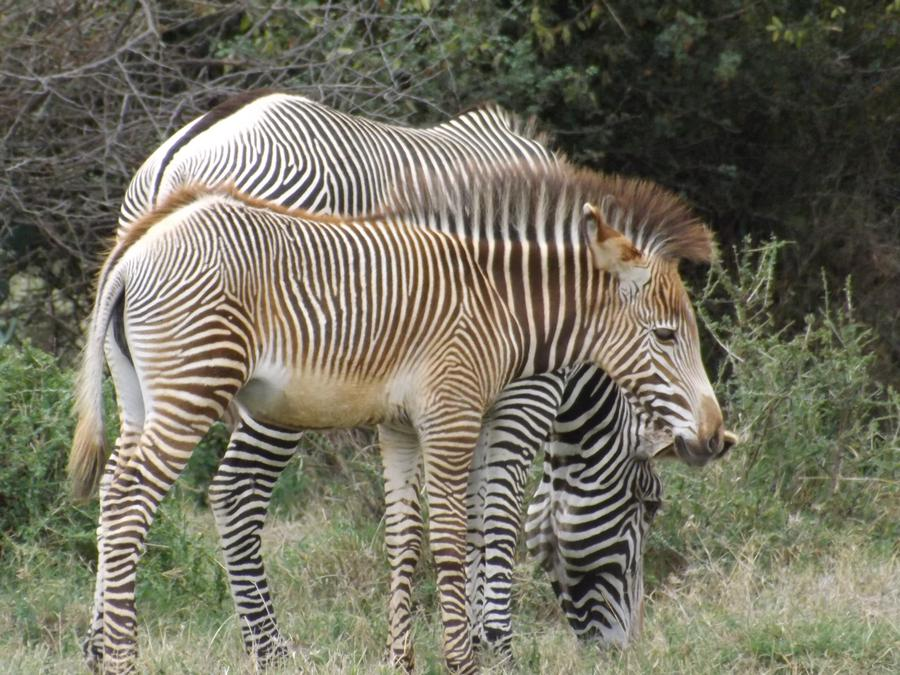zebra_grevys: (116, 197, 490, 415)
